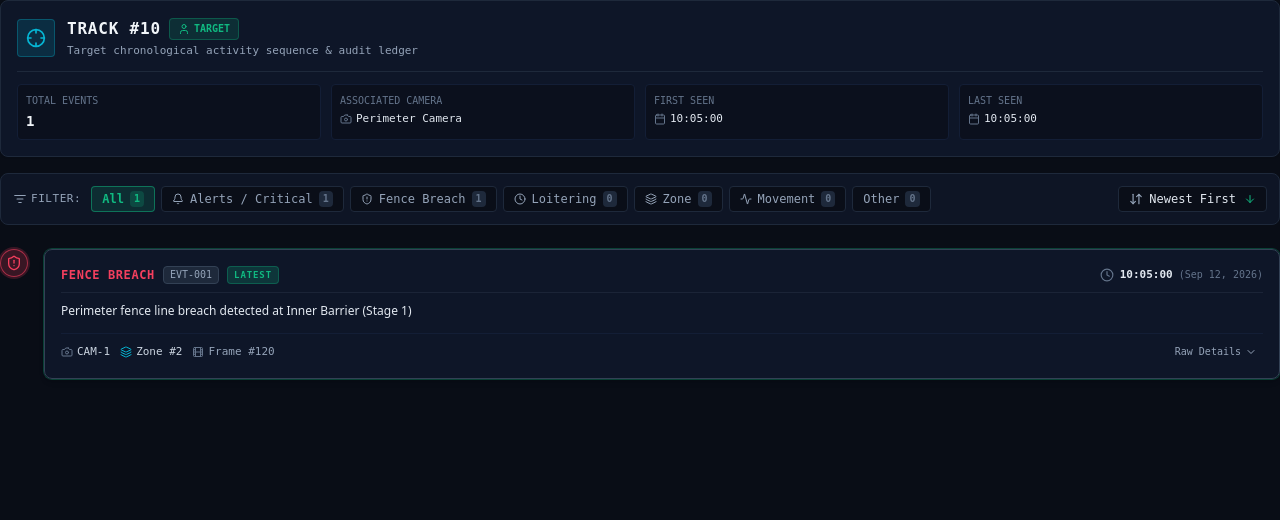
Test: IBVAP M22 — Event Timeline Module Test Suite › 17. allows expanding raw metadata payload for deep incident audit
What coordinates should you click on to do the following:
click the button with test id "toggle-raw-details-101"
I would click on:
 (1216, 352)
Its box is left=1169, top=342, right=1263, bottom=362.
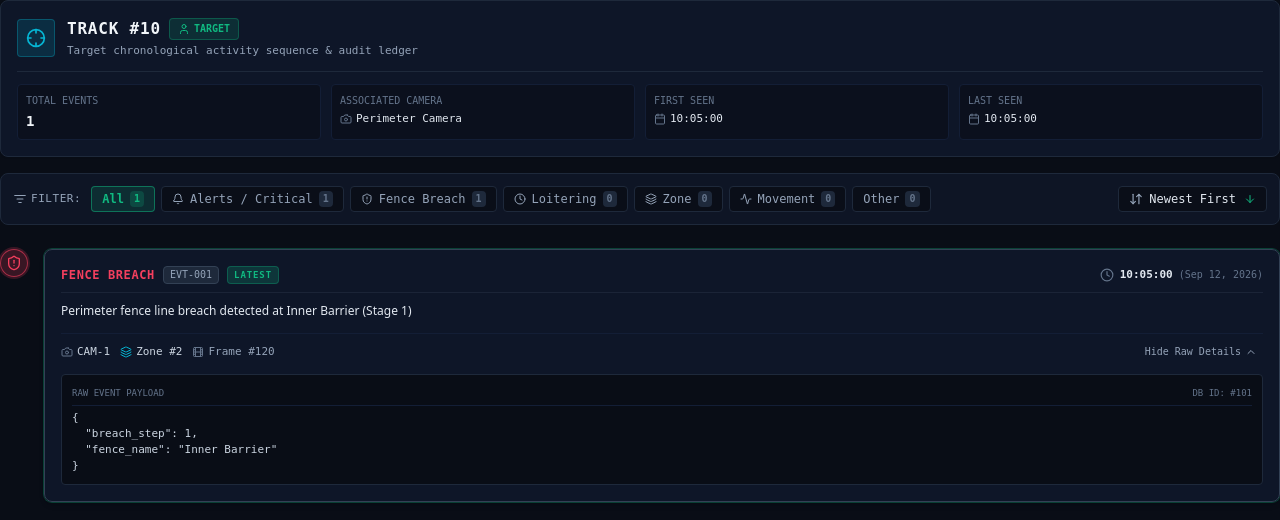
Result: the element with test id "raw-details-box-101" is shown at left=61, top=374, right=1263, bottom=484
Result: the text "{ \"breach_step\": 1, \"fence_name\": \"Inner Barrier\" }" is shown at left=72, top=410, right=277, bottom=472
What coordinates should you click on to do the following:
click the button with test id "toggle-raw-details-101"
I would click on:
 (1201, 352)
Its box is left=1139, top=342, right=1263, bottom=362.
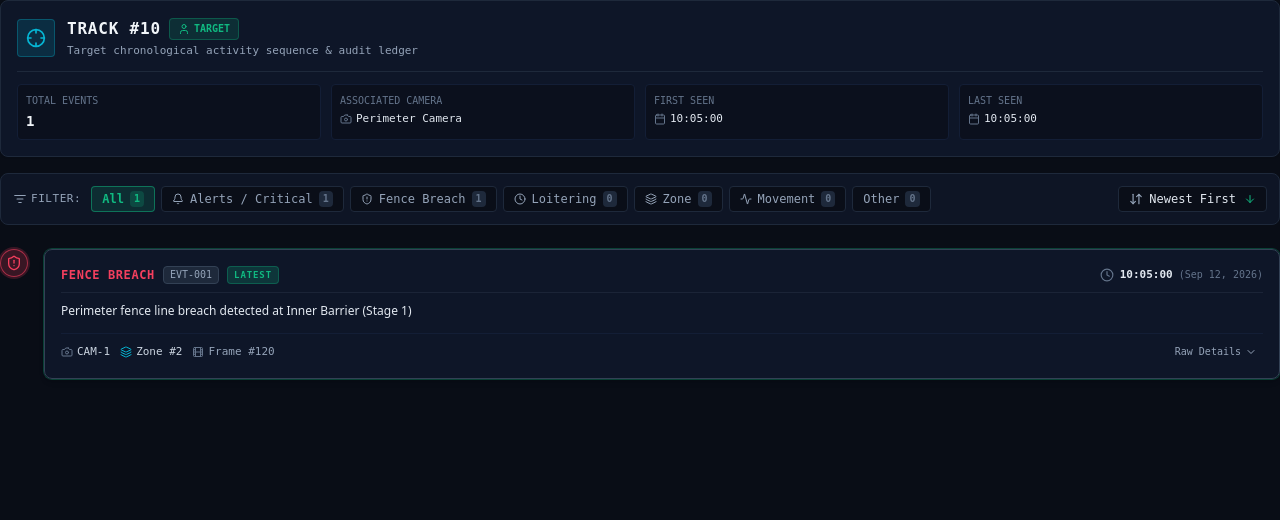
Result: the element with test id "raw-details-box-101" is gone
